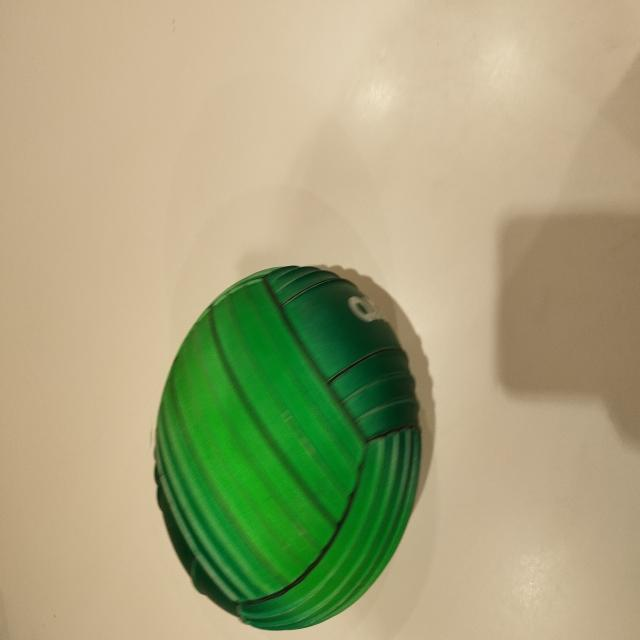zielona: (153, 263, 423, 633)
